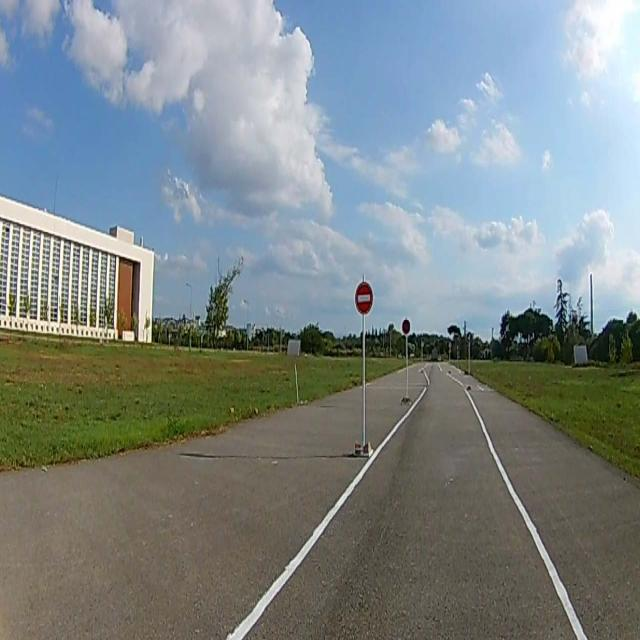girisyok: (355, 282, 373, 316)
